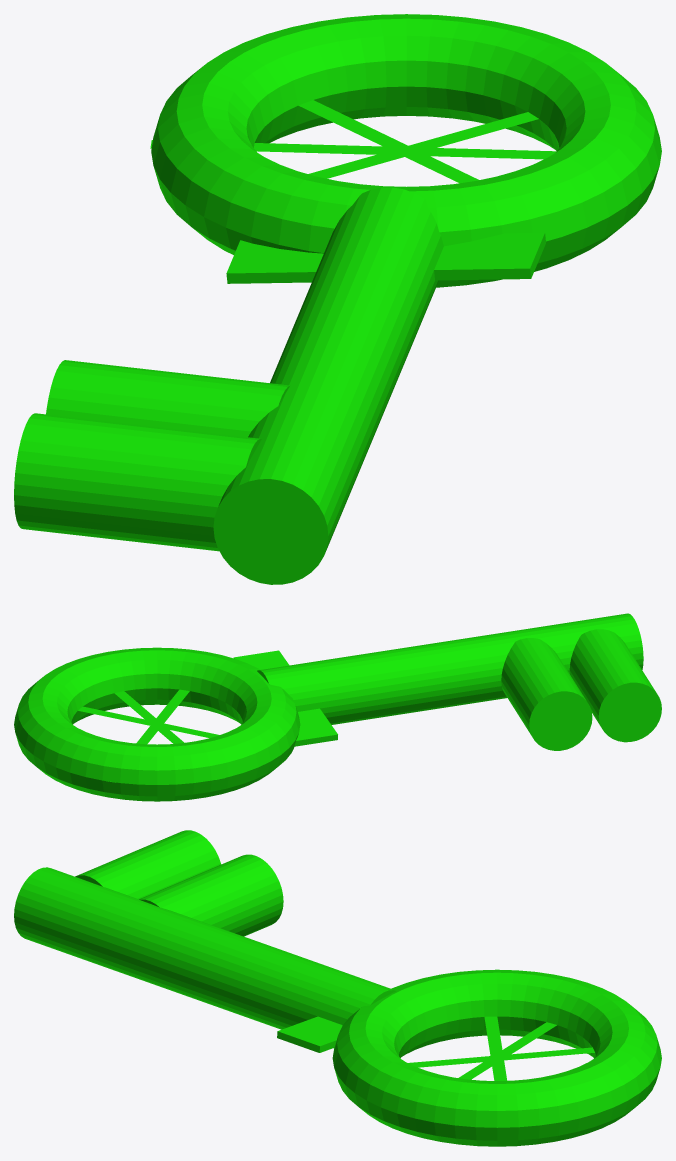
Rendered from KeyGreen.fbx.
3 renders of one model, top to bottom at view 1: azimuth 30°, elevation 25°; view 2: azimuth 150°, elevation 25°; view 3: azimuth 270°, elevation 25°, orthographic. The views are drawn at different scales.
Parts seen in each view (by area): view 1: KeyGreen; view 2: KeyGreen; view 3: KeyGreen.
Part boxes in pixels (bbox=[...]): KeyGreen: bbox=[14, 14, 661, 584]; KeyGreen: bbox=[14, 613, 661, 801]; KeyGreen: bbox=[14, 830, 661, 1146].
Bounding box in the file's own units: 3.43 × 0.4 × 3.44.
